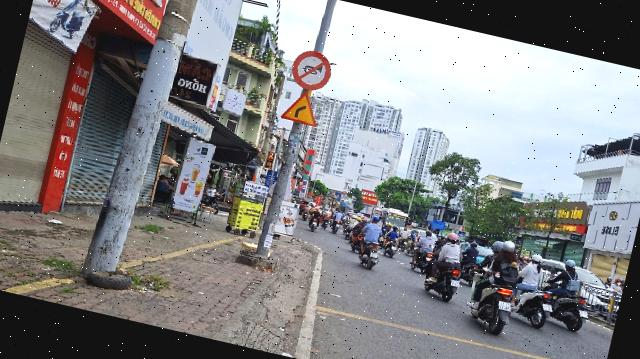cam-bop-coi: (288, 45, 335, 94)
cho-ngoat-nguy-hiem-ben-trai: (280, 86, 324, 127)
